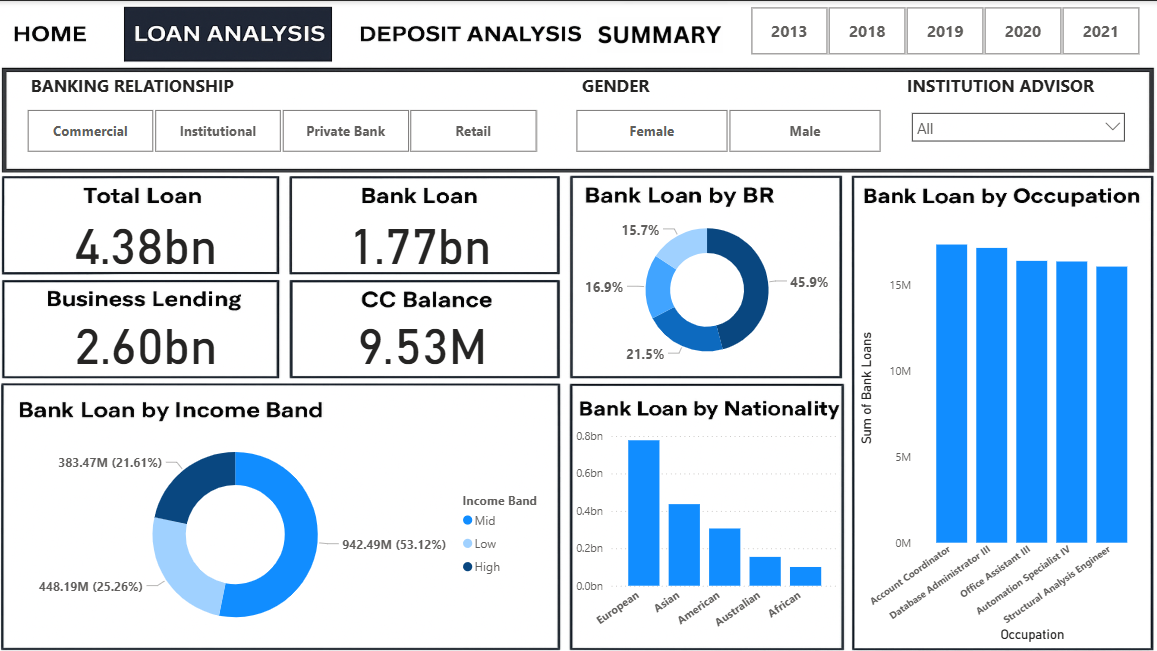

This screenshot's page, from the dashboard's own definition file:
{"tool":"powerbi","page":{"name":"Loan Analysis","canvas":[1280,720],"ordinal":1},"visuals":[{"type":"actionButton","box":[0,0,123.8,65],"z":0},{"type":"actionButton","box":[392.5,0,262.5,75],"z":1000},{"type":"slicer","fields":{"Values":["banking_case customer.Year of Joining"]},"box":[804.3,0,475.7,65.7],"z":2000},{"type":"card","fields":{"Values":["banking_case customer.Total Loan"]},"box":[75.7,214.3,180,98.6],"z":3000},{"type":"card","fields":{"Values":["Sum(banking_case customer.Bank Loans)"]},"box":[380,200,172.9,124.3],"z":4000},{"type":"card","fields":{"Values":["Sum(banking_case customer.Business Lending)"]},"box":[72.9,312.9,185.7,120],"z":5000},{"type":"card","fields":{"Values":["Sum(banking_case customer.Credit Card Balance)"]},"box":[380,312.9,177.1,120],"z":6000},{"type":"image","box":[655.7,4.3,148.6,65.7],"z":7000},{"type":"actionButton","box":[655.7,4.3,160,71.4],"z":8000},{"type":"donutChart","fields":{"Category":["banking_case customer.Income Band"],"Y":["Sum(banking_case customer.Bank Loans)"]},"box":[10,464.3,608.6,244.3],"z":9000},{"type":"donutChart","fields":{"Category":["banking_case customer.BRId"],"Y":["Sum(banking_case customer.Bank Loans)"]},"box":[632.9,222.9,298.6,190],"z":10000},{"type":"clusteredColumnChart","fields":{"Category":["banking_case customer.Nationality"],"Y":["Sum(banking_case customer.Bank Loans)"]},"box":[632.9,464.3,298.6,244.3],"z":11000},{"type":"clusteredColumnChart","fields":{"Category":["banking_case customer.Occupation"],"Y":["Sum(banking_case customer.Bank Loans)"]},"box":[944.3,241.4,322.9,467.1],"z":12000},{"type":"slicer","fields":{"Values":["banking_case customer.BRId"]},"box":[10,112.9,608.6,60],"z":13000},{"type":"slicer","fields":{"Values":["banking_case customer.GenderId"]},"box":[611.4,112.9,384.3,60],"z":14000},{"type":"slicer","fields":{"Values":["banking_case customer.IAId"]},"box":[995.7,112.9,254.3,60],"z":15000},{"type":"textbox","box":[34.3,75.7,292.9,37.1],"z":16000},{"type":"textbox","box":[640,75.7,114.3,37.1],"z":17000},{"type":"textbox","box":[995.7,75.7,237.1,37.1],"z":18000}]}

Visuals, with their boxes in screenshot pixels (x1, y1, x2, y2), scaled from the page's 1280x720 canvas onto the 1157x651 screenshot:
actionButton: box=[0, 0, 112, 59]
actionButton: box=[355, 0, 592, 68]
slicer - banking_case customer.Year of Joining: box=[727, 0, 1156, 59]
card - banking_case customer.Total Loan: box=[68, 194, 231, 283]
card - Sum(banking_case customer.Bank Loans): box=[343, 181, 500, 293]
card - Sum(banking_case customer.Business Lending): box=[66, 283, 234, 391]
card - Sum(banking_case customer.Credit Card Balance): box=[343, 283, 504, 391]
image: box=[593, 4, 727, 63]
actionButton: box=[593, 4, 737, 68]
donutChart - banking_case customer.Income Band x Sum(banking_case customer.Bank Loans): box=[9, 420, 559, 641]
donutChart - banking_case customer.BRId x Sum(banking_case customer.Bank Loans): box=[572, 202, 842, 373]
clusteredColumnChart - banking_case customer.Nationality x Sum(banking_case customer.Bank Loans): box=[572, 420, 842, 641]
clusteredColumnChart - banking_case customer.Occupation x Sum(banking_case customer.Bank Loans): box=[854, 218, 1145, 641]
slicer - banking_case customer.BRId: box=[9, 102, 559, 156]
slicer - banking_case customer.GenderId: box=[553, 102, 900, 156]
slicer - banking_case customer.IAId: box=[900, 102, 1130, 156]
textbox: box=[31, 68, 296, 102]
textbox: box=[578, 68, 682, 102]
textbox: box=[900, 68, 1114, 102]
